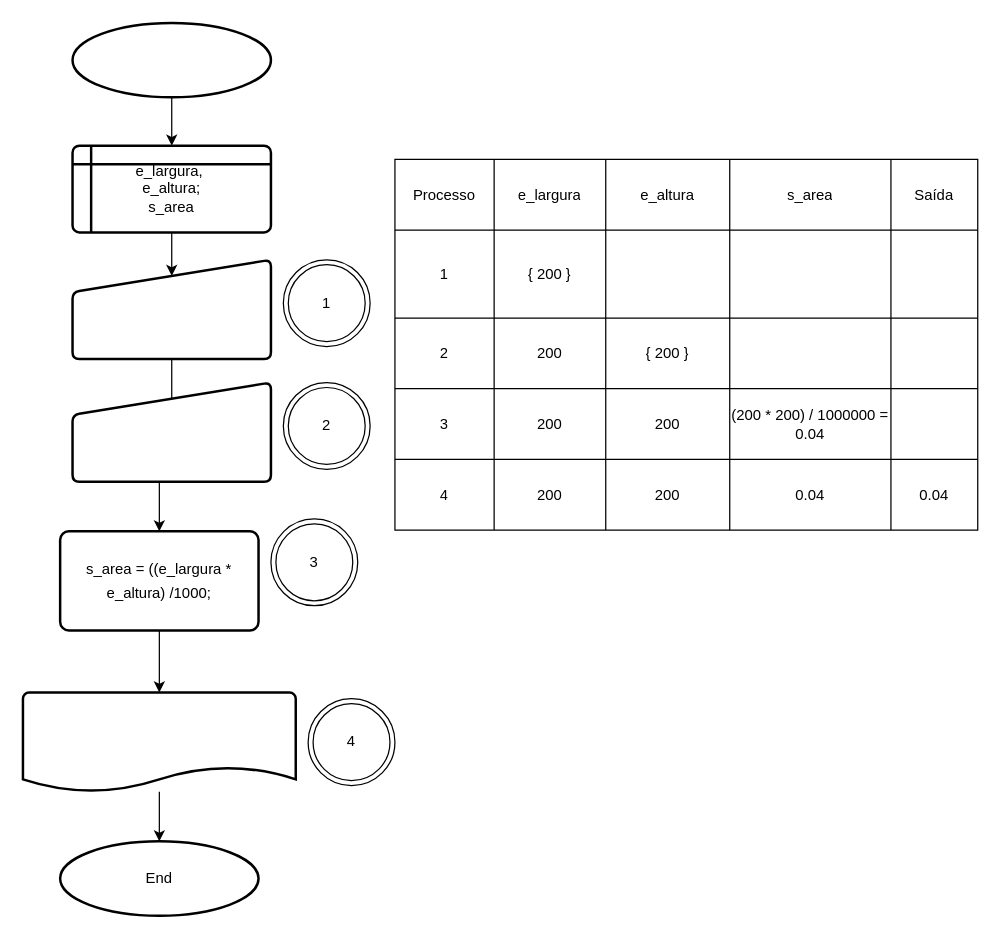
Image size: 999x937. Some labels were removed from this diagram. Here are the shapes that lost their labels. From the top down, the centre of each, then its label:
[171,59]: Start
[171,309]: scanf("%f", &e_largura);
[171,431]: scanf("%f", &e_altura);
[158,741]: printf("A área é: %.5f\n", s_area);
